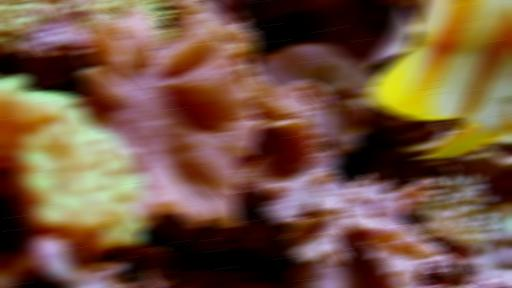Fish: (370, 0, 511, 158)
